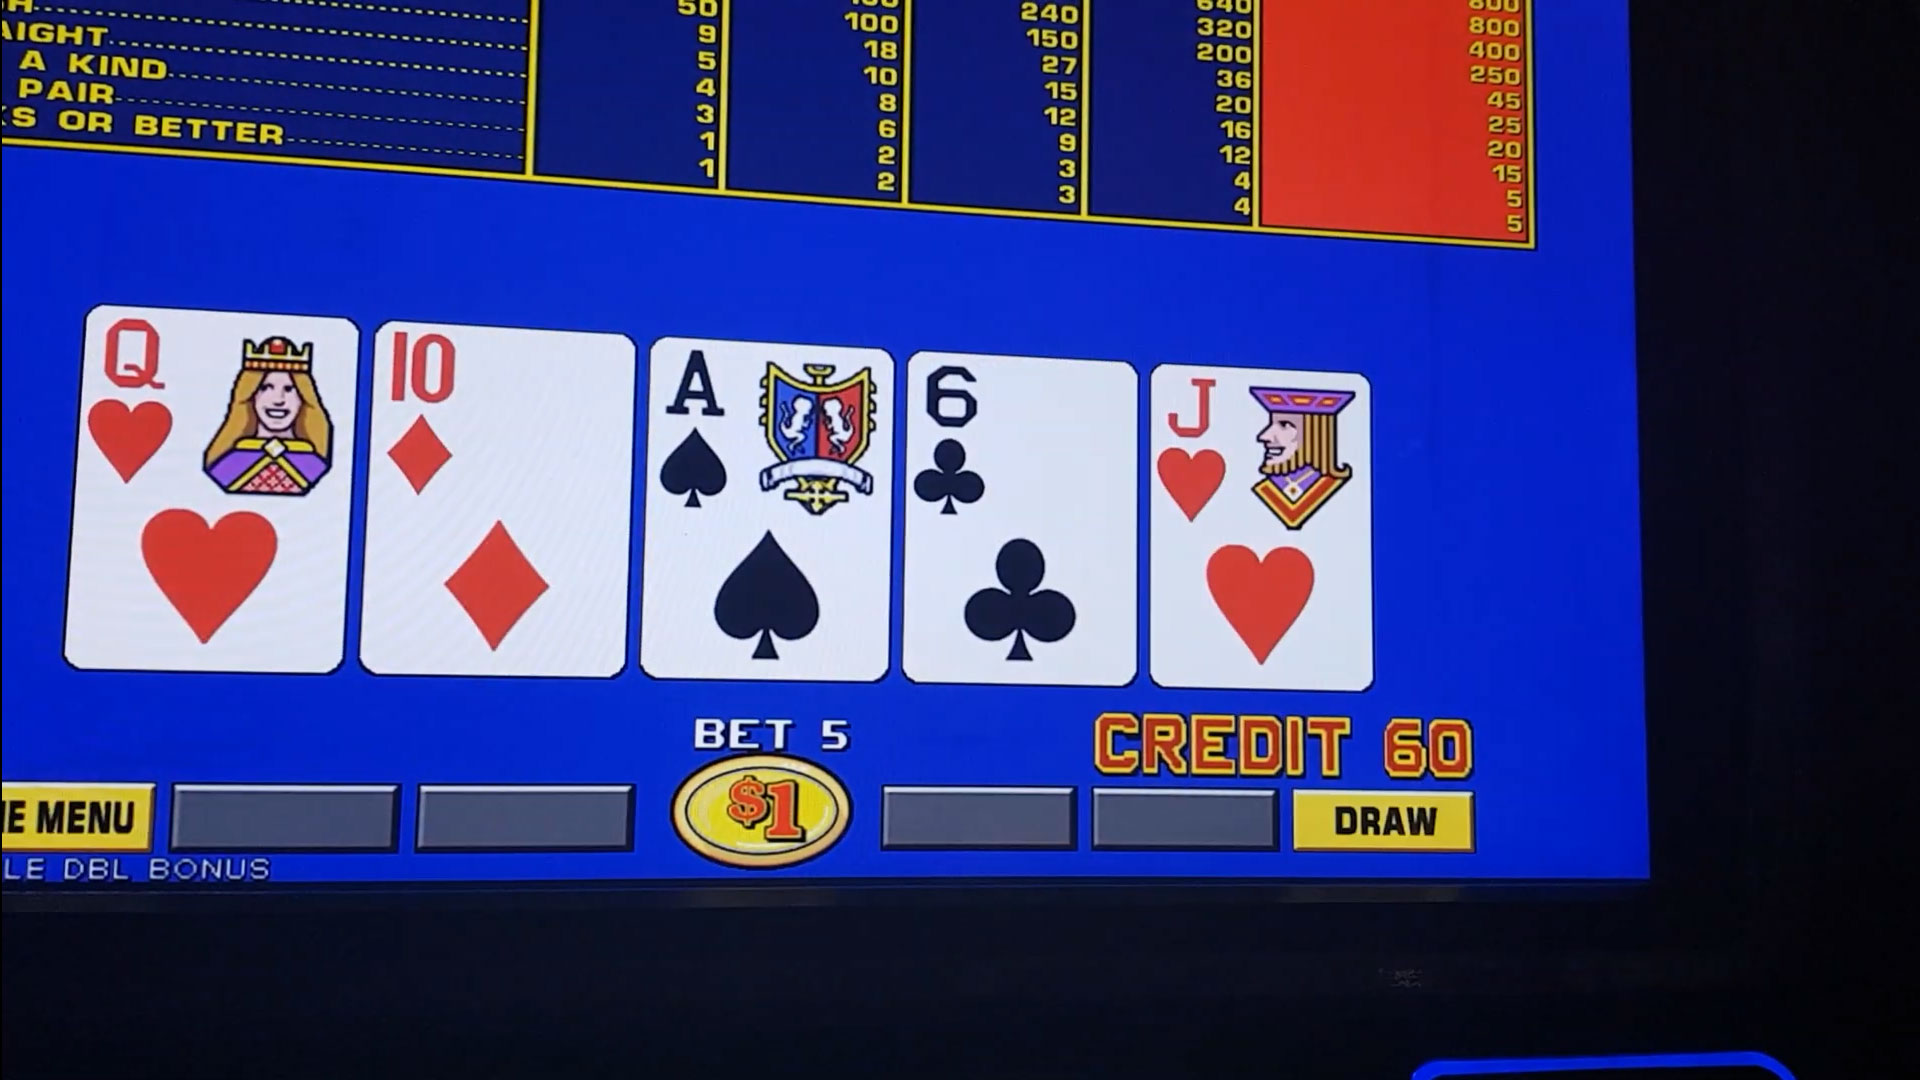C6: (914, 365, 1135, 521)
DT: (382, 336, 624, 512)
HJ: (1156, 375, 1365, 535)
HQ: (84, 320, 348, 496)
SA: (654, 349, 885, 524)
